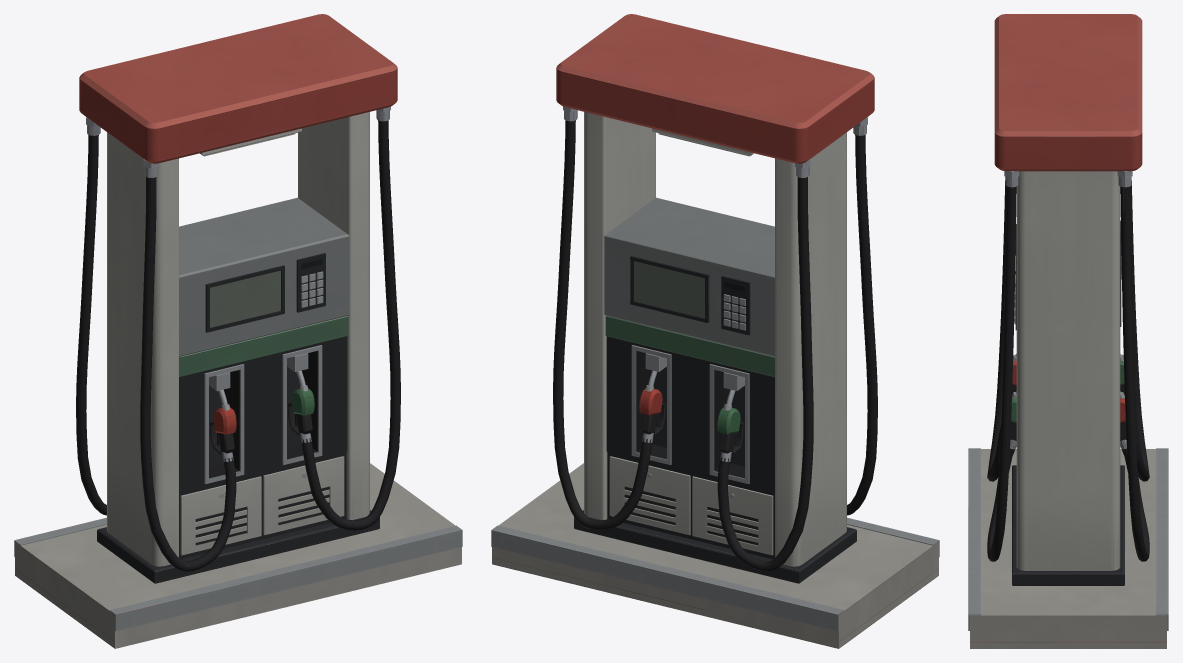
The model's file is item.obj.
3 views of the same model, side by side, from view 1: azimuth 30°, elevation 25°; view 2: azimuth 150°, elevation 25°; view 3: azimuth 270°, elevation 25° (orthographic).
Parts seen in each view (by area): view 1: header, pillar_l, curb, head, pillar_r, bay_back, nosing, doors_back, hose_gasoline_back, hose_diesel_back, plinth, hose_diesel_front (+10 smaller); view 2: header, pillar_l, curb, head, pillar_r, bay_front, nosing, doors_front, hose_diesel_front, hose_gasoline_front, plinth, hose_gasoline_back (+10 smaller); view 3: pillar_r, header, curb, nosing, hose_gasoline_front, hose_diesel_back, plinth, hose_diesel_front, hose_gasoline_back, curb_bottom.
Part boxes in pixels (<box>): header: <box>79,14,397,163</box>; pillar_l: <box>107,132,178,566</box>; curb: <box>15,463,461,641</box>; head: <box>179,197,349,356</box>; pillar_r: <box>298,112,369,520</box>; bay_back: <box>179,336,347,492</box>; nosing: <box>14,517,462,631</box>; doors_back: <box>180,456,344,555</box>; hose_gasoline_back: <box>140,177,236,571</box>; hose_diesel_back: <box>301,120,400,530</box>; plinth: <box>97,510,379,583</box>; hose_diesel_front: <box>76,135,106,515</box>; header: <box>556,14,874,163</box>; pillar_l: <box>775,132,846,566</box>; curb: <box>492,463,938,641</box>; head: <box>604,197,774,356</box>; pillar_r: <box>584,112,655,520</box>; bay_front: <box>606,336,774,492</box>; nosing: <box>491,517,939,631</box>; doors_front: <box>609,456,773,555</box>; hose_diesel_front: <box>717,177,813,571</box>; hose_gasoline_front: <box>553,120,652,530</box>; plinth: <box>574,510,856,583</box>; hose_gasoline_back: <box>847,135,877,515</box>; pillar_r: <box>1016,171,1120,570</box>; header: <box>994,14,1142,171</box>; curb: <box>970,449,1166,642</box>; nosing: <box>968,448,1168,630</box>; hose_gasoline_front: <box>1120,186,1149,561</box>; hose_diesel_back: <box>987,186,1016,561</box>; plinth: <box>1012,465,1124,585</box>; hose_diesel_front: <box>1130,181,1149,481</box>; hose_gasoline_back: <box>987,181,1006,481</box>; curb_bottom: <box>970,642,1166,648</box>.
Bounding box in the file's own units: 2 × 2.76 × 1.02.
